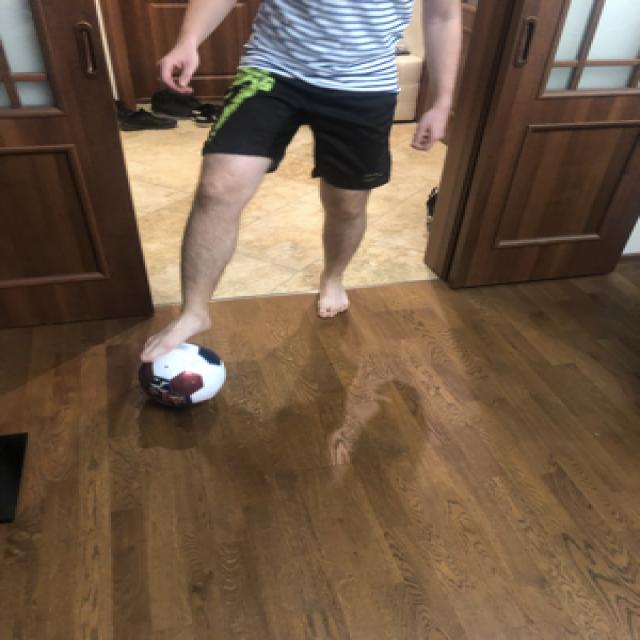soccer_ball: (132, 339, 226, 406)
